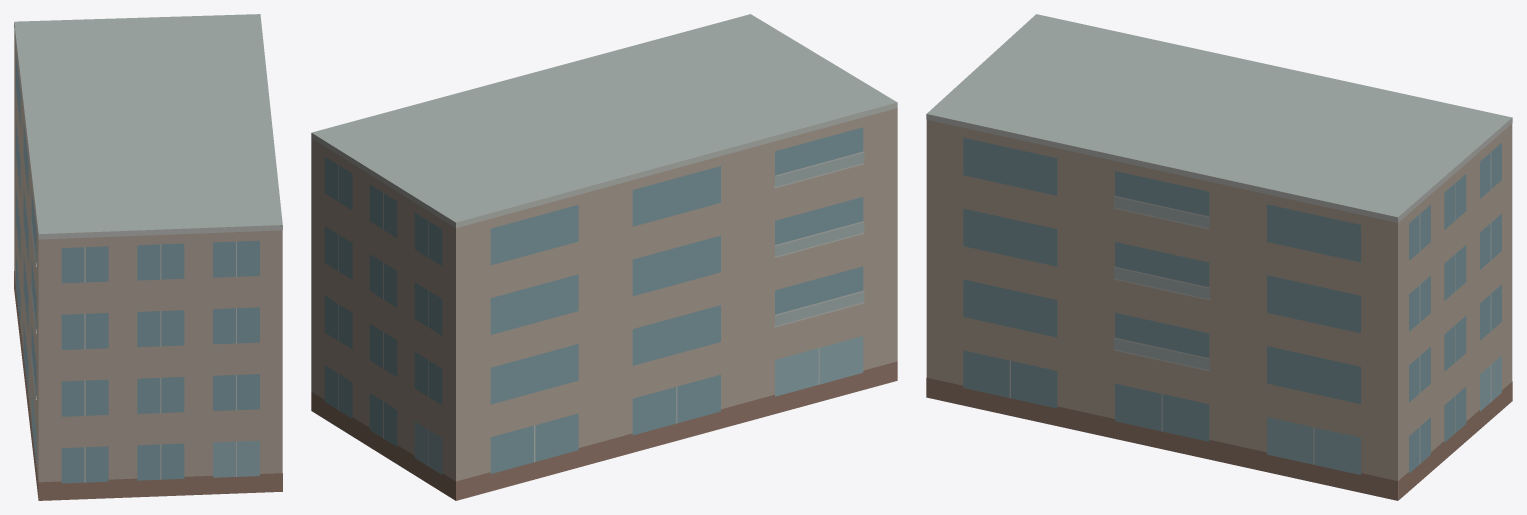
File: survey-upis-32732224.glb
The picture shows the model from 3 angles, left to right: view 1: azimuth 30°, elevation 25°; view 2: azimuth 150°, elevation 25°; view 3: azimuth 270°, elevation 25°; orthographic projection. The views are drawn at different scales.
Parts seen in each view (by area): view 1: survey-upis-32732224.tmp; view 2: survey-upis-32732224.tmp; view 3: survey-upis-32732224.tmp.
Part boxes in pixels (bbox=[...]): survey-upis-32732224.tmp: bbox=[14, 14, 282, 500]; survey-upis-32732224.tmp: bbox=[311, 14, 897, 500]; survey-upis-32732224.tmp: bbox=[926, 14, 1512, 500].
Size of the model in its own units: 18.77 by 12.2 by 22.86.
